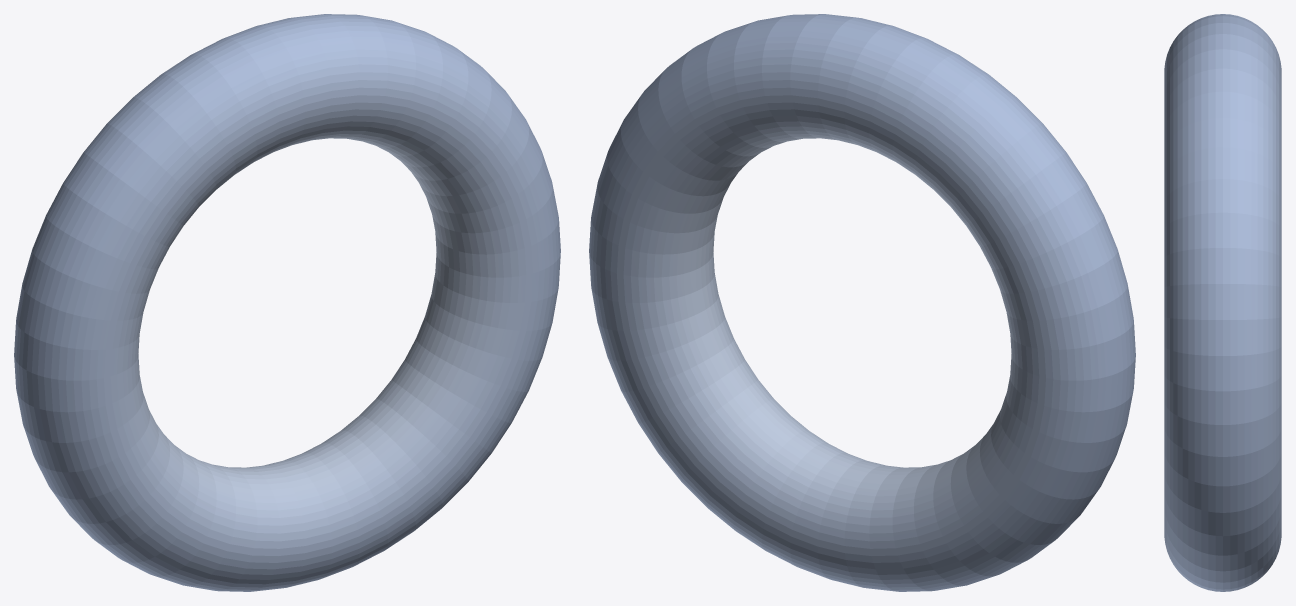
3 renders of one model, left to right at view 1: azimuth 30°, elevation 25°; view 2: azimuth 150°, elevation 25°; view 3: azimuth 270°, elevation 25°, orthographic. The views are drawn at different scales.
Parts seen in each view (by area): view 1: world; view 2: world; view 3: world.
Boxes of the visible parts, left/top/right/bottom form: world: left=14, top=14, right=560, bottom=591; world: left=589, top=14, right=1135, bottom=591; world: left=1164, top=14, right=1281, bottom=591.
Size of the model in its own units: 24.27 by 24.22 by 4.92.
